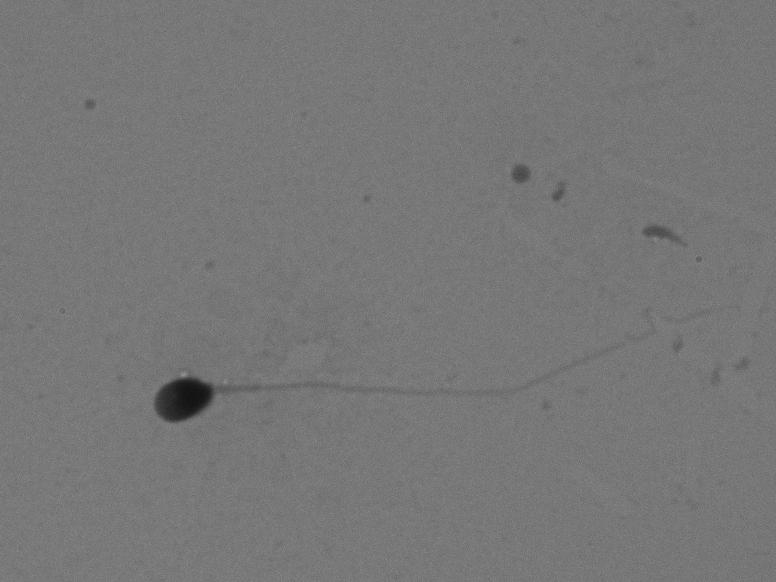Normal: (148, 287, 744, 430)
